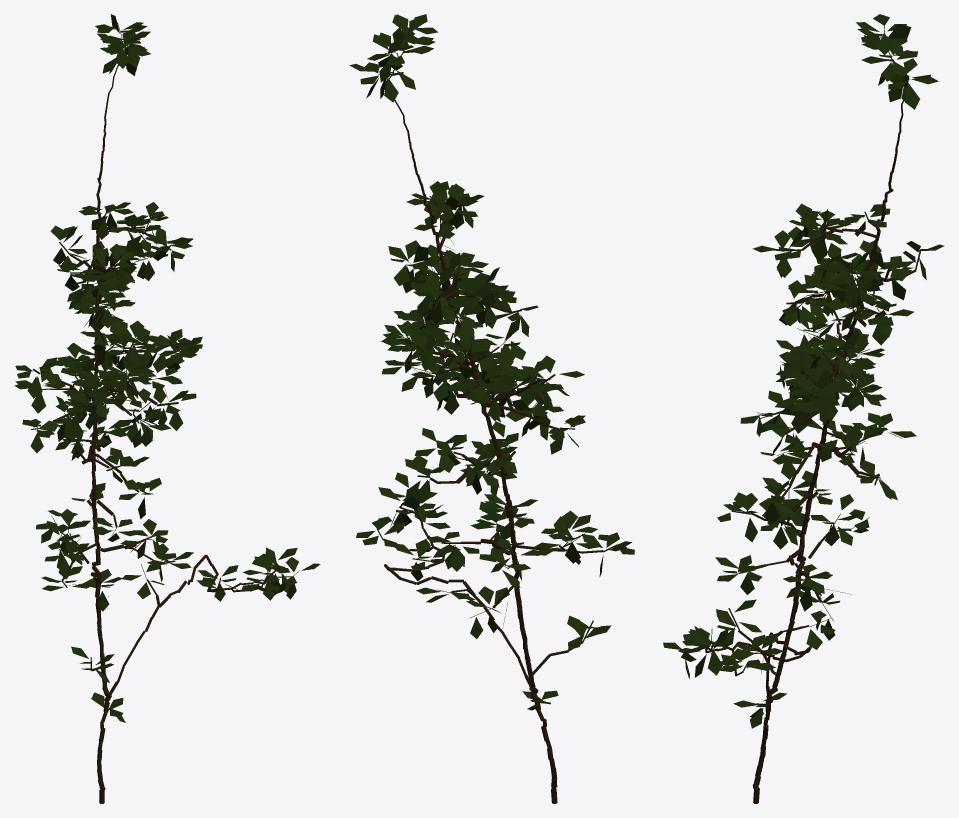
File: tree_478.obj
The picture shows the model from 3 angles, left to right: view 1: azimuth 30°, elevation 25°; view 2: azimuth 150°, elevation 25°; view 3: azimuth 270°, elevation 25°; orthographic projection. The views are drawn at different scales.
Visible parts, largest first — view 1: Leaves, TrunkAndBranches; view 2: Leaves, TrunkAndBranches; view 3: Leaves, TrunkAndBranches.
Part boxes in pixels (<box>): Leaves: <box>14,14,320,722</box>; TrunkAndBranches: <box>31,22,299,803</box>; Leaves: <box>349,14,634,710</box>; TrunkAndBranches: <box>377,24,617,803</box>; Leaves: <box>663,14,944,728</box>; TrunkAndBranches: <box>678,23,920,803</box>.
Bounding box in the file's own units: 3.36 × 9.44 × 2.94.
